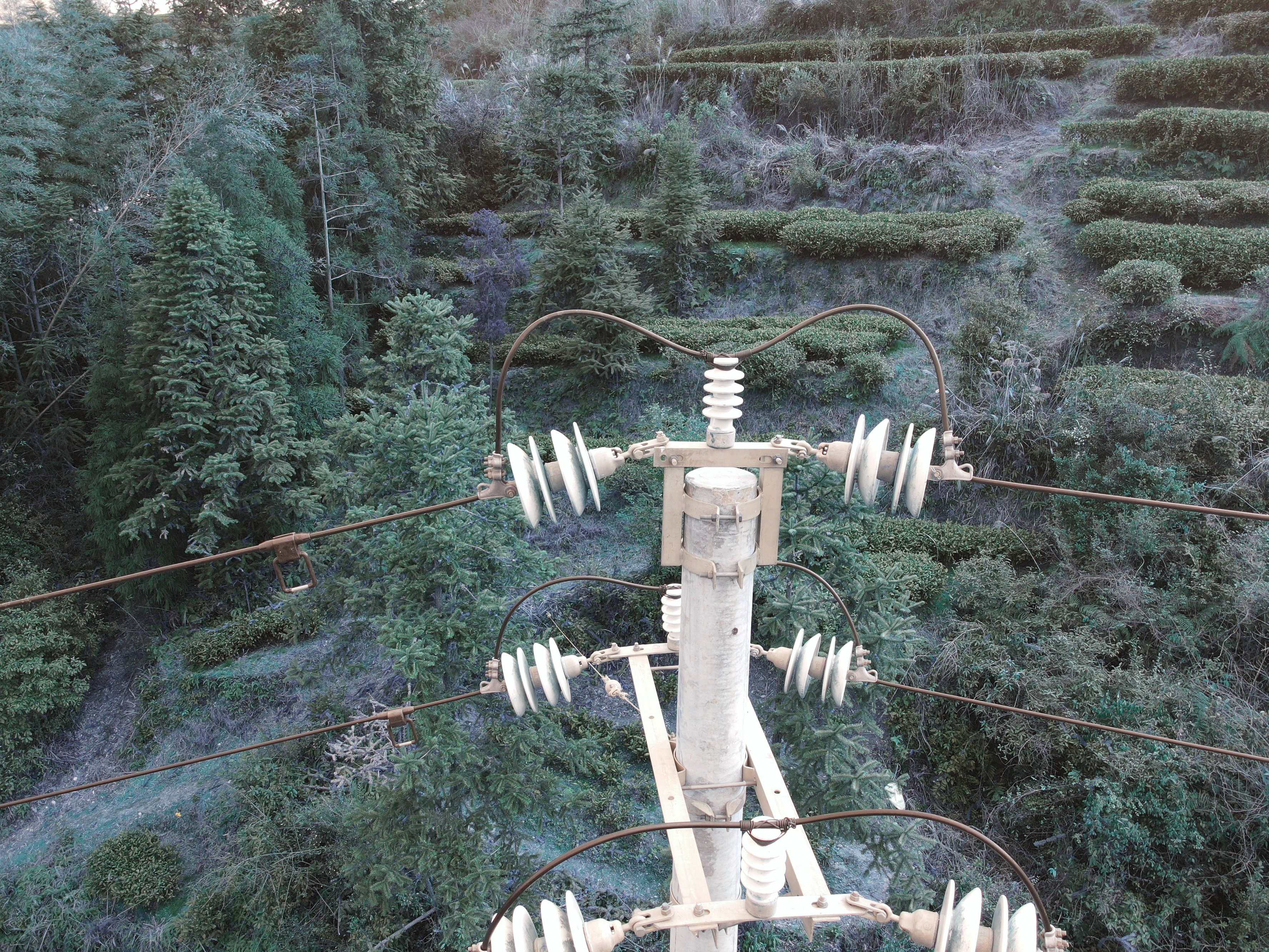severe_soiling_no_discharge_whole: (504, 416, 627, 526), (822, 408, 939, 519), (898, 874, 1039, 952), (487, 889, 627, 951), (498, 639, 587, 715), (768, 629, 855, 706)
